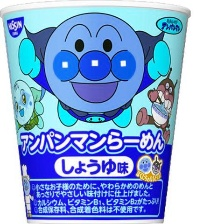paper_cup: (0, 0, 194, 224)
